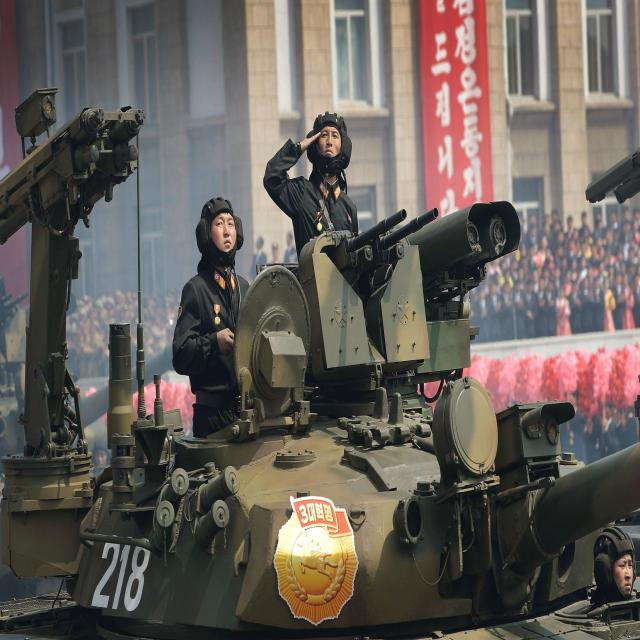north tank: (0, 77, 640, 640)
